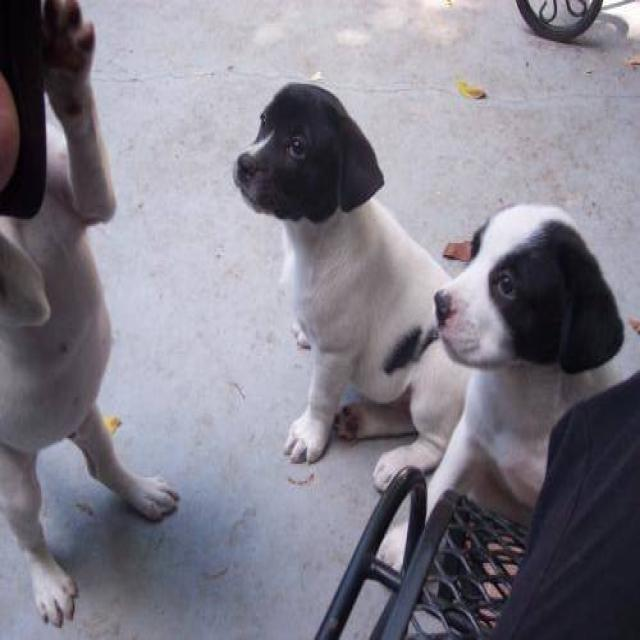dog: (0, 0, 180, 628), (372, 200, 638, 575)
